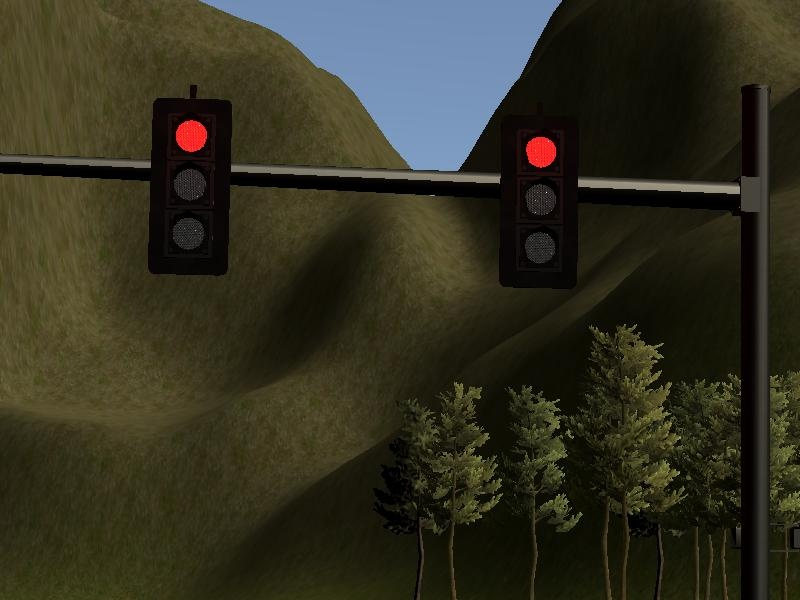red: (145, 96, 235, 280), (496, 109, 586, 293)
